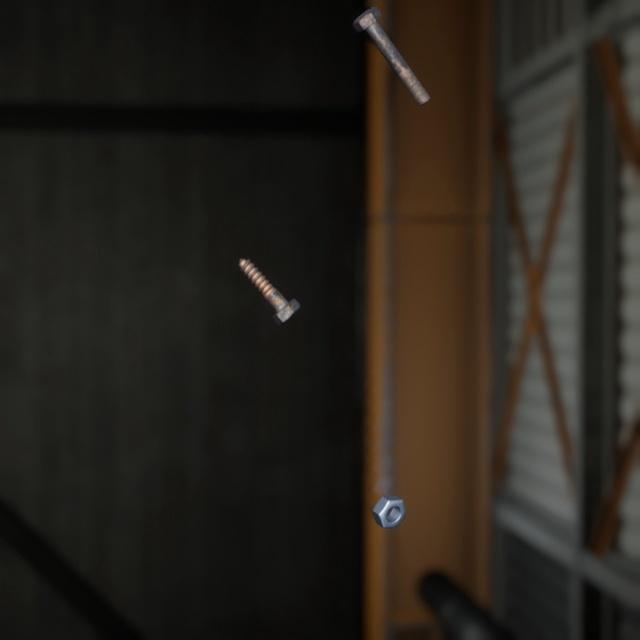bolt: (348, 0, 434, 101), (234, 236, 305, 312)
nut: (367, 470, 411, 511)
